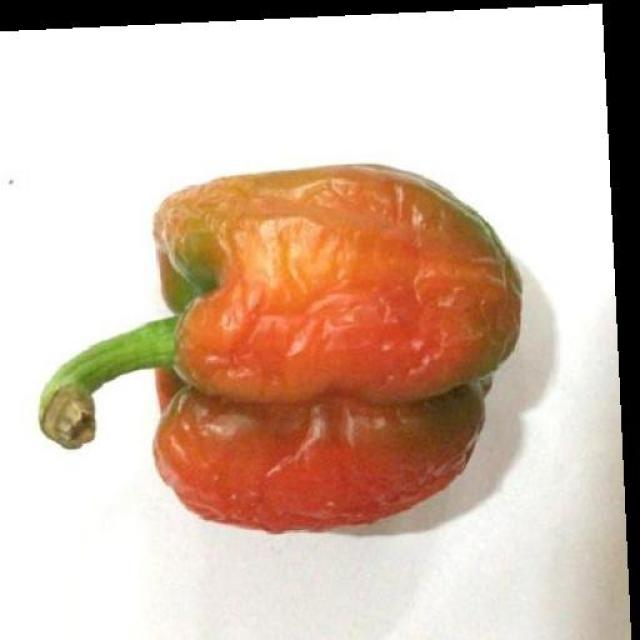Stale_Capsicum: (92, 173, 530, 536)
